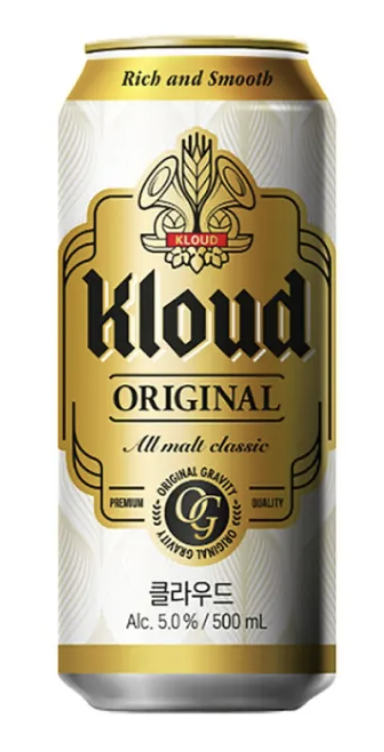beer-can: (57, 34, 337, 714)
